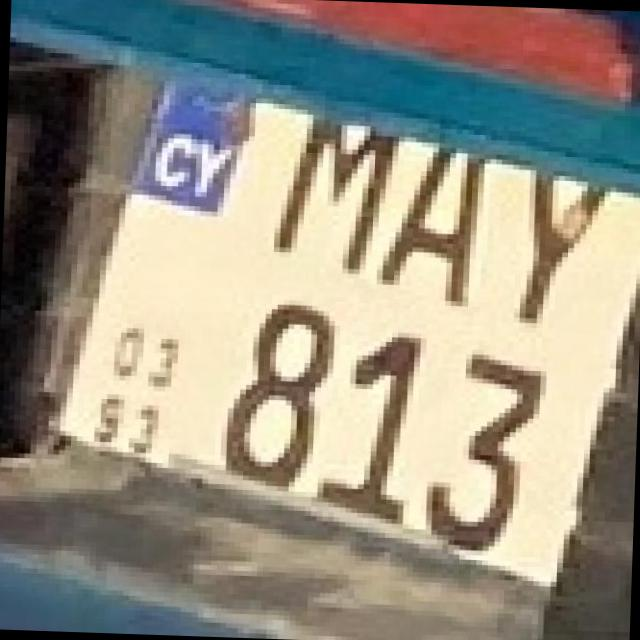1: (304, 316, 438, 530)
3: (402, 332, 559, 552)
8: (196, 282, 342, 492)
A: (364, 126, 491, 306)
M: (256, 98, 400, 275)
Y: (478, 149, 612, 330)
